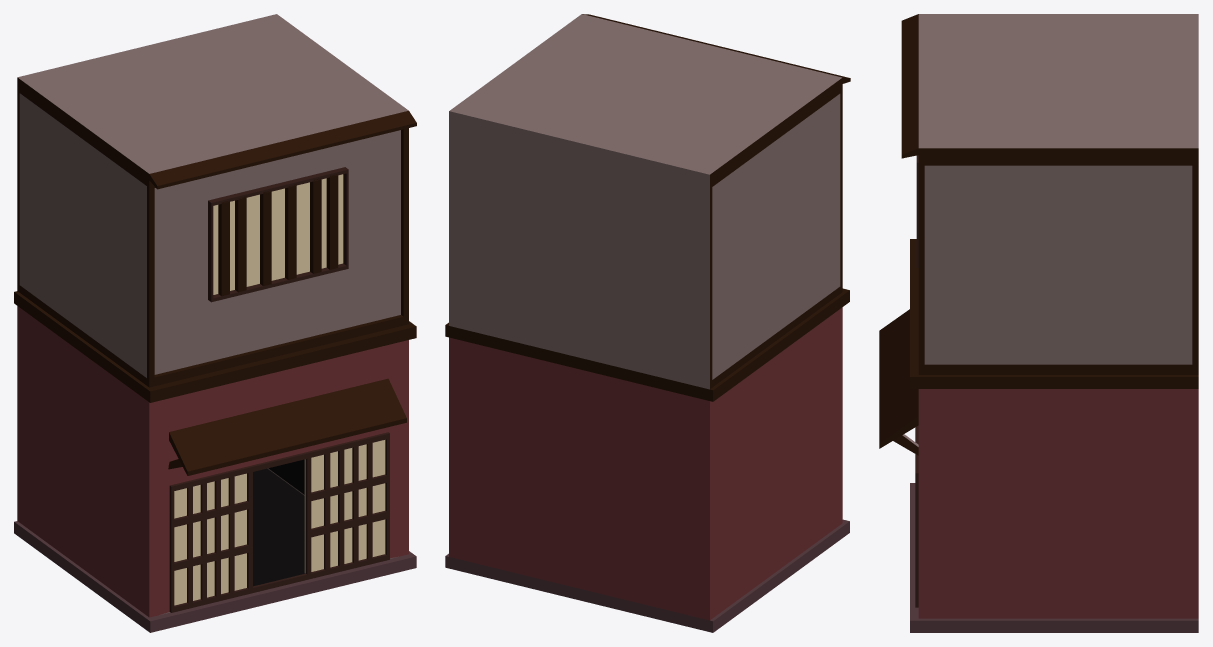
Rendered from shop2.fbx.
3 views of the same model, side by side, from view 1: azimuth 30°, elevation 25°; view 2: azimuth 150°, elevation 25°; view 3: azimuth 270°, elevation 25° (orthographic). The views are drawn at different scales.
Parts seen in each view (by area): view 1: Cube.008; view 2: Cube.008; view 3: Cube.008.
Part boxes in pixels (x1=…): Cube.008: x1=14, y1=14, x2=416, y2=632; Cube.008: x1=445, y1=14, x2=850, y2=632; Cube.008: x1=879, y1=14, x2=1198, y2=632.
Size of the model in its own units: 737 by 1203 by 721.
